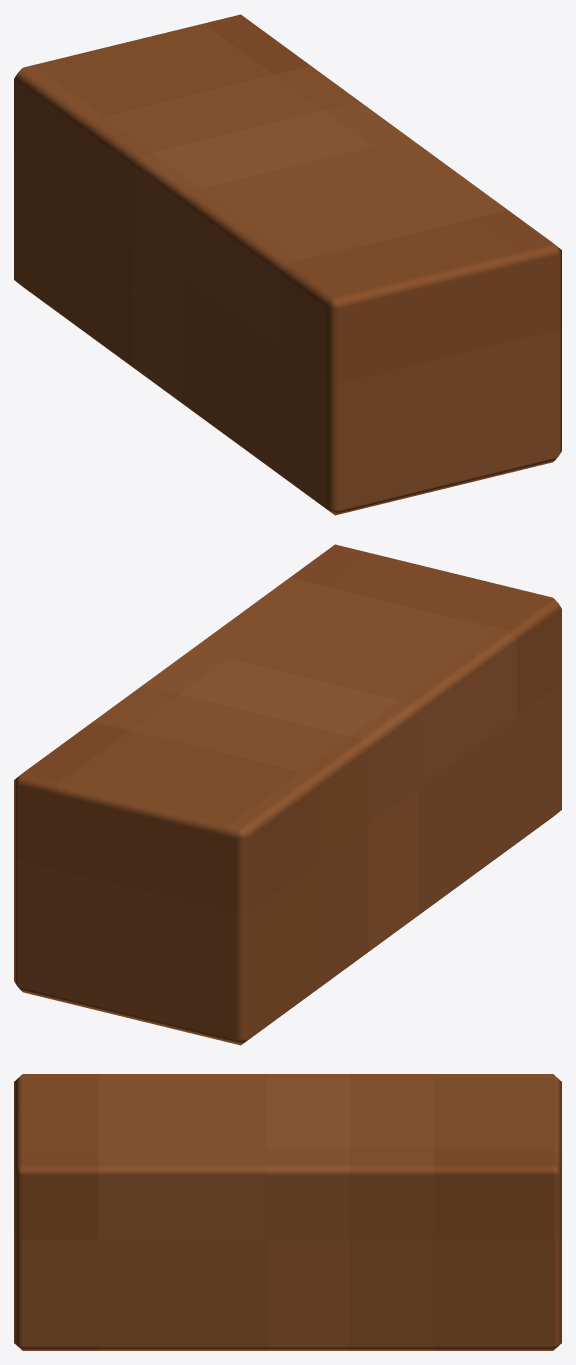
Rendered from Peg-2.glb.
The picture shows the model from 3 angles, top to bottom: view 1: azimuth 30°, elevation 25°; view 2: azimuth 150°, elevation 25°; view 3: azimuth 270°, elevation 25°; orthographic projection. The views are drawn at different scales.
Visible parts, largest first — view 1: Peg-2; view 2: Peg-2; view 3: Peg-2.
Boxes of the visible parts, <box> form: Peg-2: <box>14,14,561,515</box>; Peg-2: <box>14,544,561,1045</box>; Peg-2: <box>14,1074,561,1350</box>.
Size of the model in its own units: 0.054 by 0.048 by 0.128.
1 material, 1 textured.
